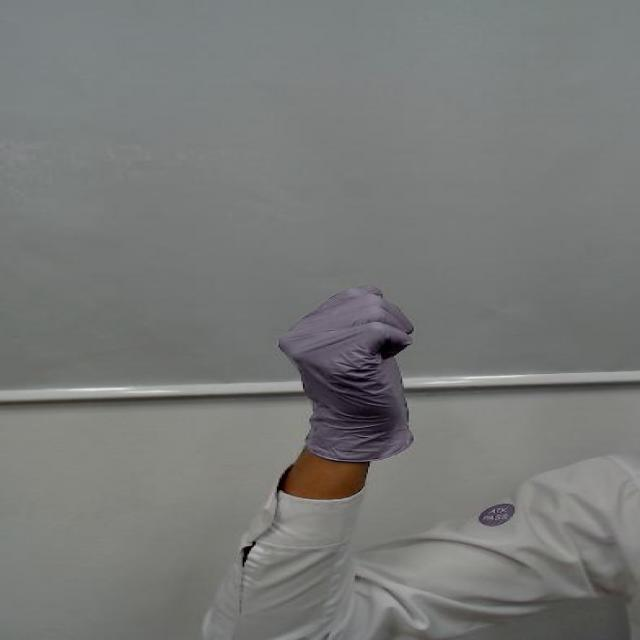with_gloves: (262, 280, 435, 408)
